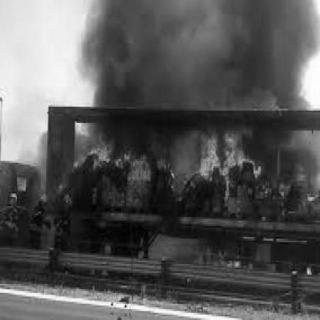Fire: (67, 134, 273, 198), (195, 245, 259, 282), (298, 262, 312, 276)
